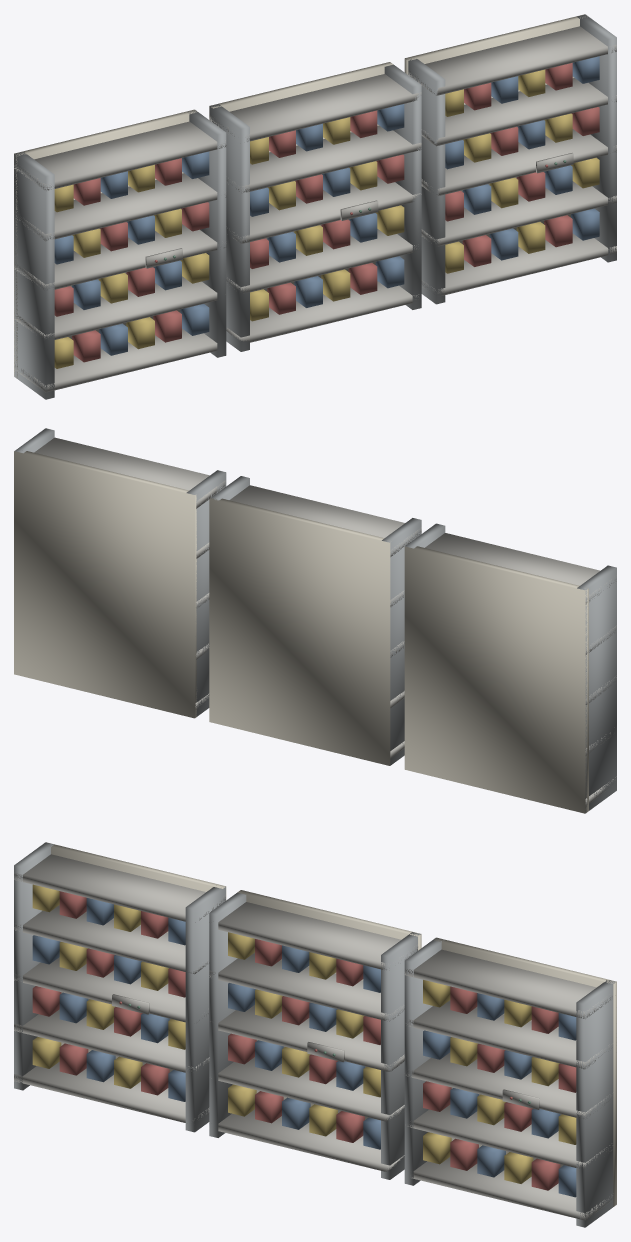
File: retail_gondola__cluster.glb
3 views of the same model, one above another, from view 1: azimuth 30°, elevation 25°; view 2: azimuth 150°, elevation 25°; view 3: azimuth 330°, elevation 25° (orthographic).
Visible parts, largest first — view 1: world; view 2: world; view 3: world.
Part boxes in pixels (x1=…): world: x1=14, y1=14, x2=616, y2=399; world: x1=14, y1=428, x2=616, y2=813; world: x1=14, y1=842, x2=616, y2=1227.
Size of the model in its own units: 4.42 by 1.65 by 0.456.
